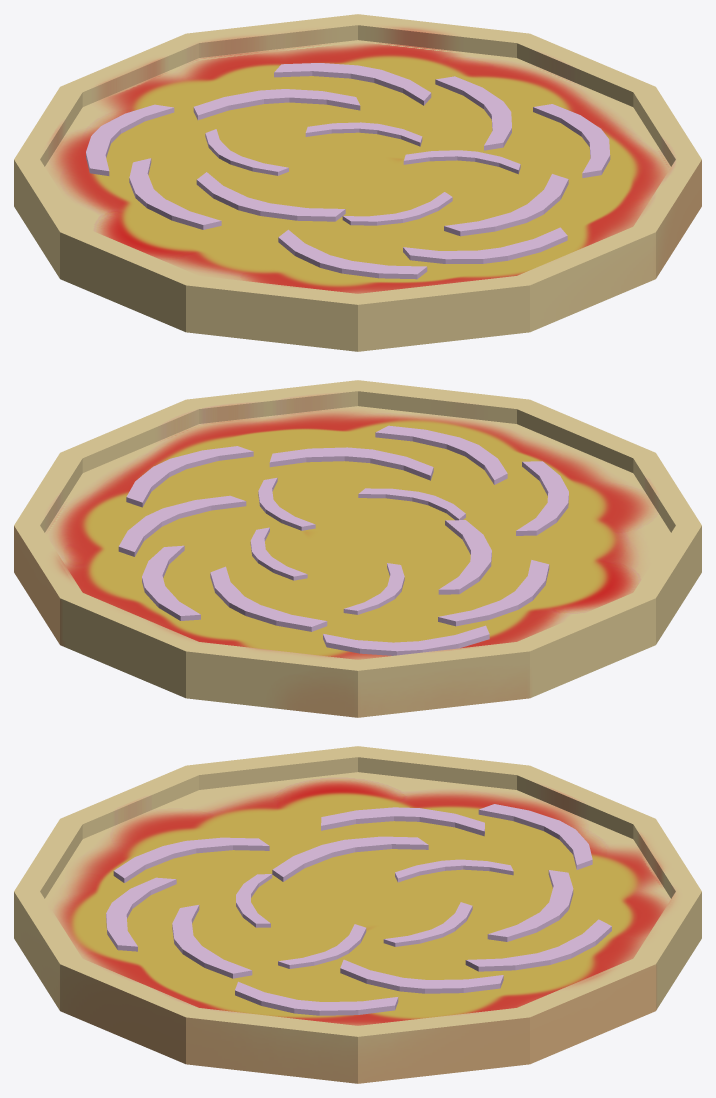
Rendered from RawOnion.fbx.
3 views of the same model, one above another, from view 1: azimuth 30°, elevation 25°; view 2: azimuth 150°, elevation 25°; view 3: azimuth 270°, elevation 25° (orthographic).
Parts seen in each view (by area): view 1: PizzaBase, Onions; view 2: PizzaBase, Onions; view 3: PizzaBase, Onions.
Boxes of the visible parts, box(x1,y1,x2,y2) form: PizzaBase: box(14, 14, 701, 351); Onions: box(86, 63, 610, 279); PizzaBase: box(14, 380, 701, 717); Onions: box(118, 425, 568, 655); PizzaBase: box(14, 746, 701, 1083); Onions: box(106, 804, 611, 1015).
Size of the model in its own units: 200 by 15.07 by 200.
Materials: 2 (1 with a texture image).
